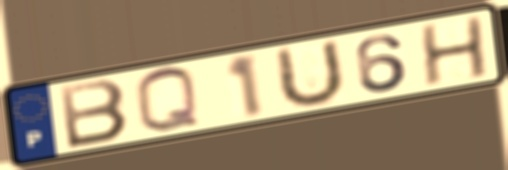1: (225, 51, 266, 120)
6: (352, 34, 410, 94)
B: (56, 77, 132, 152)
H: (417, 13, 493, 89)
Q: (132, 65, 204, 136)
U: (274, 36, 348, 112)
